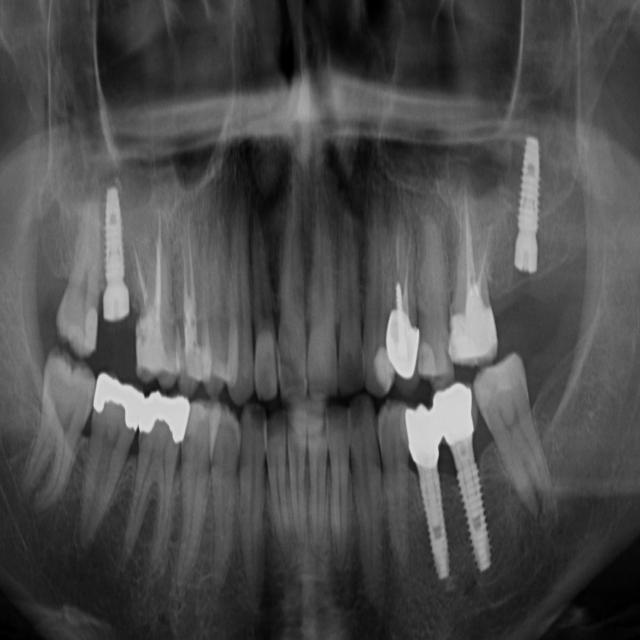dentin-curugu: (244, 402, 268, 443), (278, 352, 304, 387), (324, 405, 347, 436), (343, 352, 361, 387), (350, 396, 370, 427), (270, 413, 288, 436)
dolgu: (448, 300, 510, 362)
implant: (427, 389, 515, 578), (396, 387, 459, 586), (512, 129, 555, 283), (95, 186, 136, 330)
kanal-tedavisi: (445, 192, 508, 312), (126, 204, 179, 313), (167, 220, 210, 351), (380, 228, 424, 331)
kaplama: (87, 366, 146, 437), (134, 383, 190, 456), (388, 312, 422, 381)
